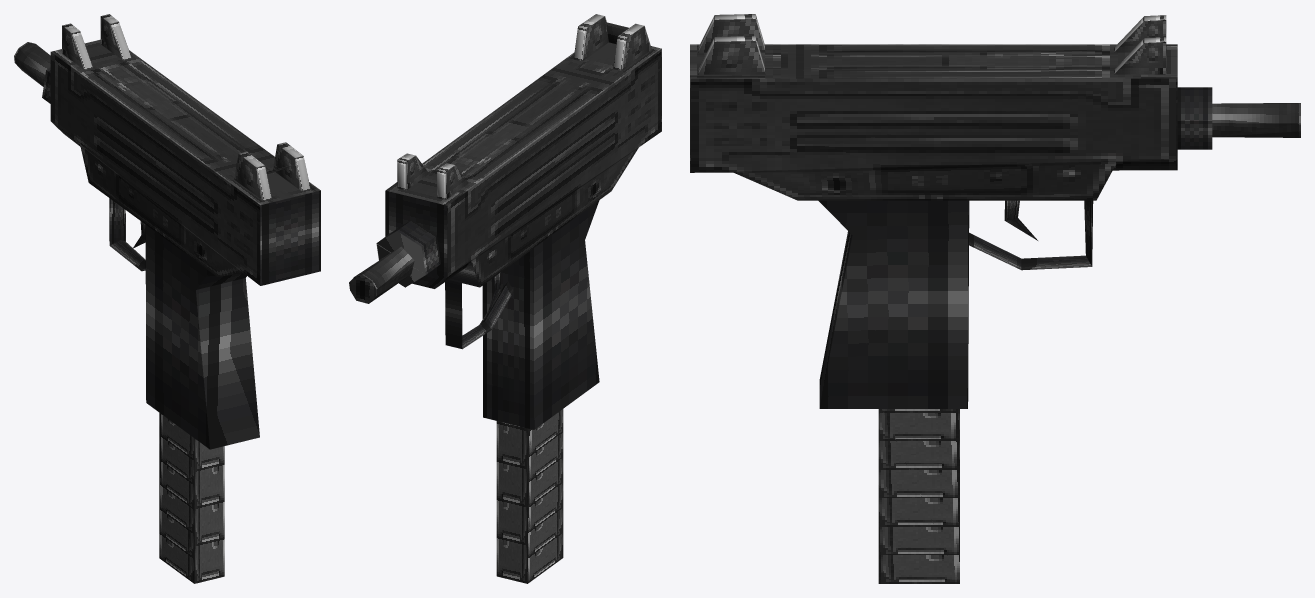
The model's file is uzi.gltf.
3 views of the same model, side by side, from view 1: azimuth 30°, elevation 25°; view 2: azimuth 150°, elevation 25°; view 3: azimuth 270°, elevation 25° (orthographic). The views are drawn at different scales.
Visible parts, largest first — view 1: UZI; view 2: UZI; view 3: UZI.
Part boxes in pixels (x1,y1,x2,y2): UZI: (14, 14, 320, 583); UZI: (349, 14, 661, 583); UZI: (690, 14, 1300, 583).
Size of the model in its own units: 44 by 327 by 331.
9 materials, 8 textured.
